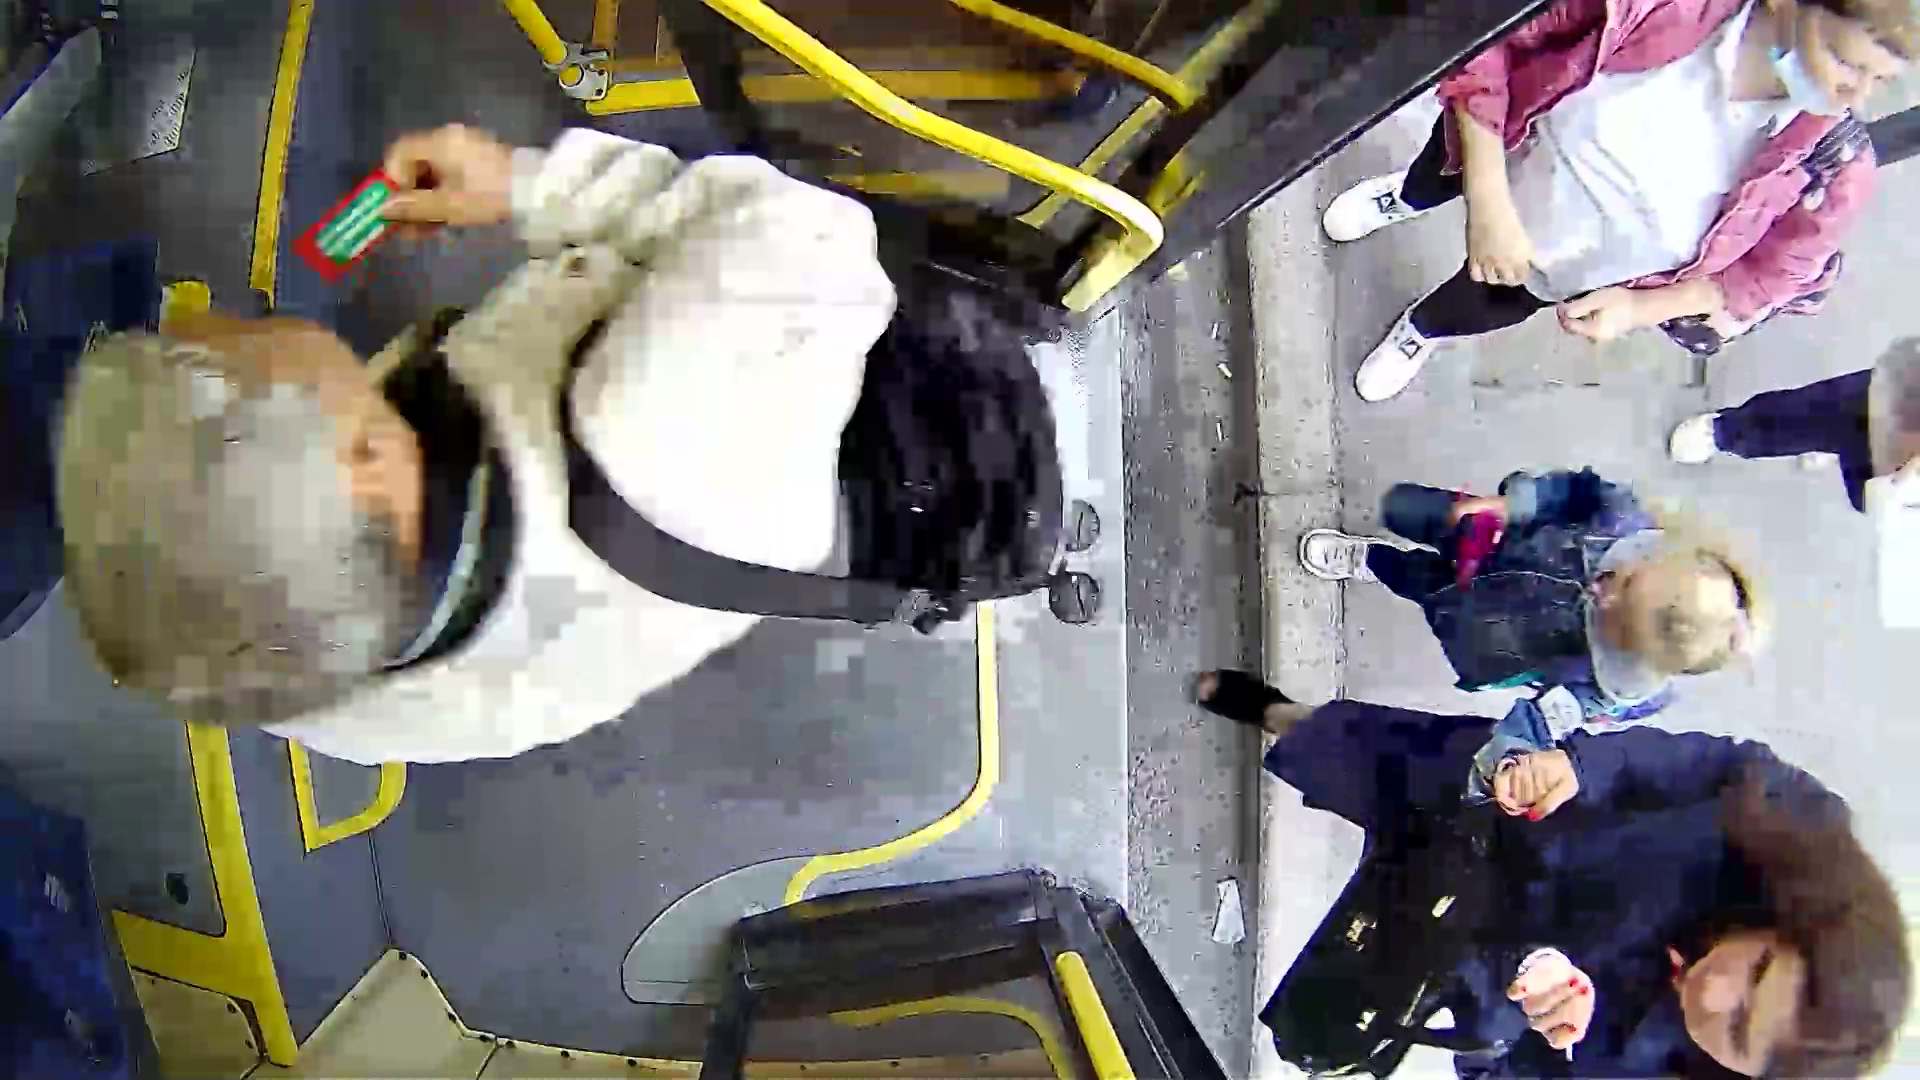person: (78, 94, 1064, 785), (1233, 682, 1906, 1070), (1271, 420, 1775, 753)
